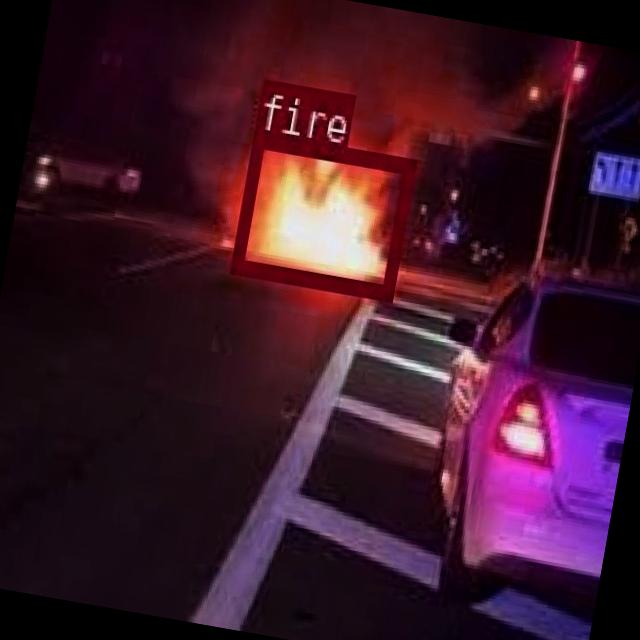fire: (229, 130, 414, 296)
